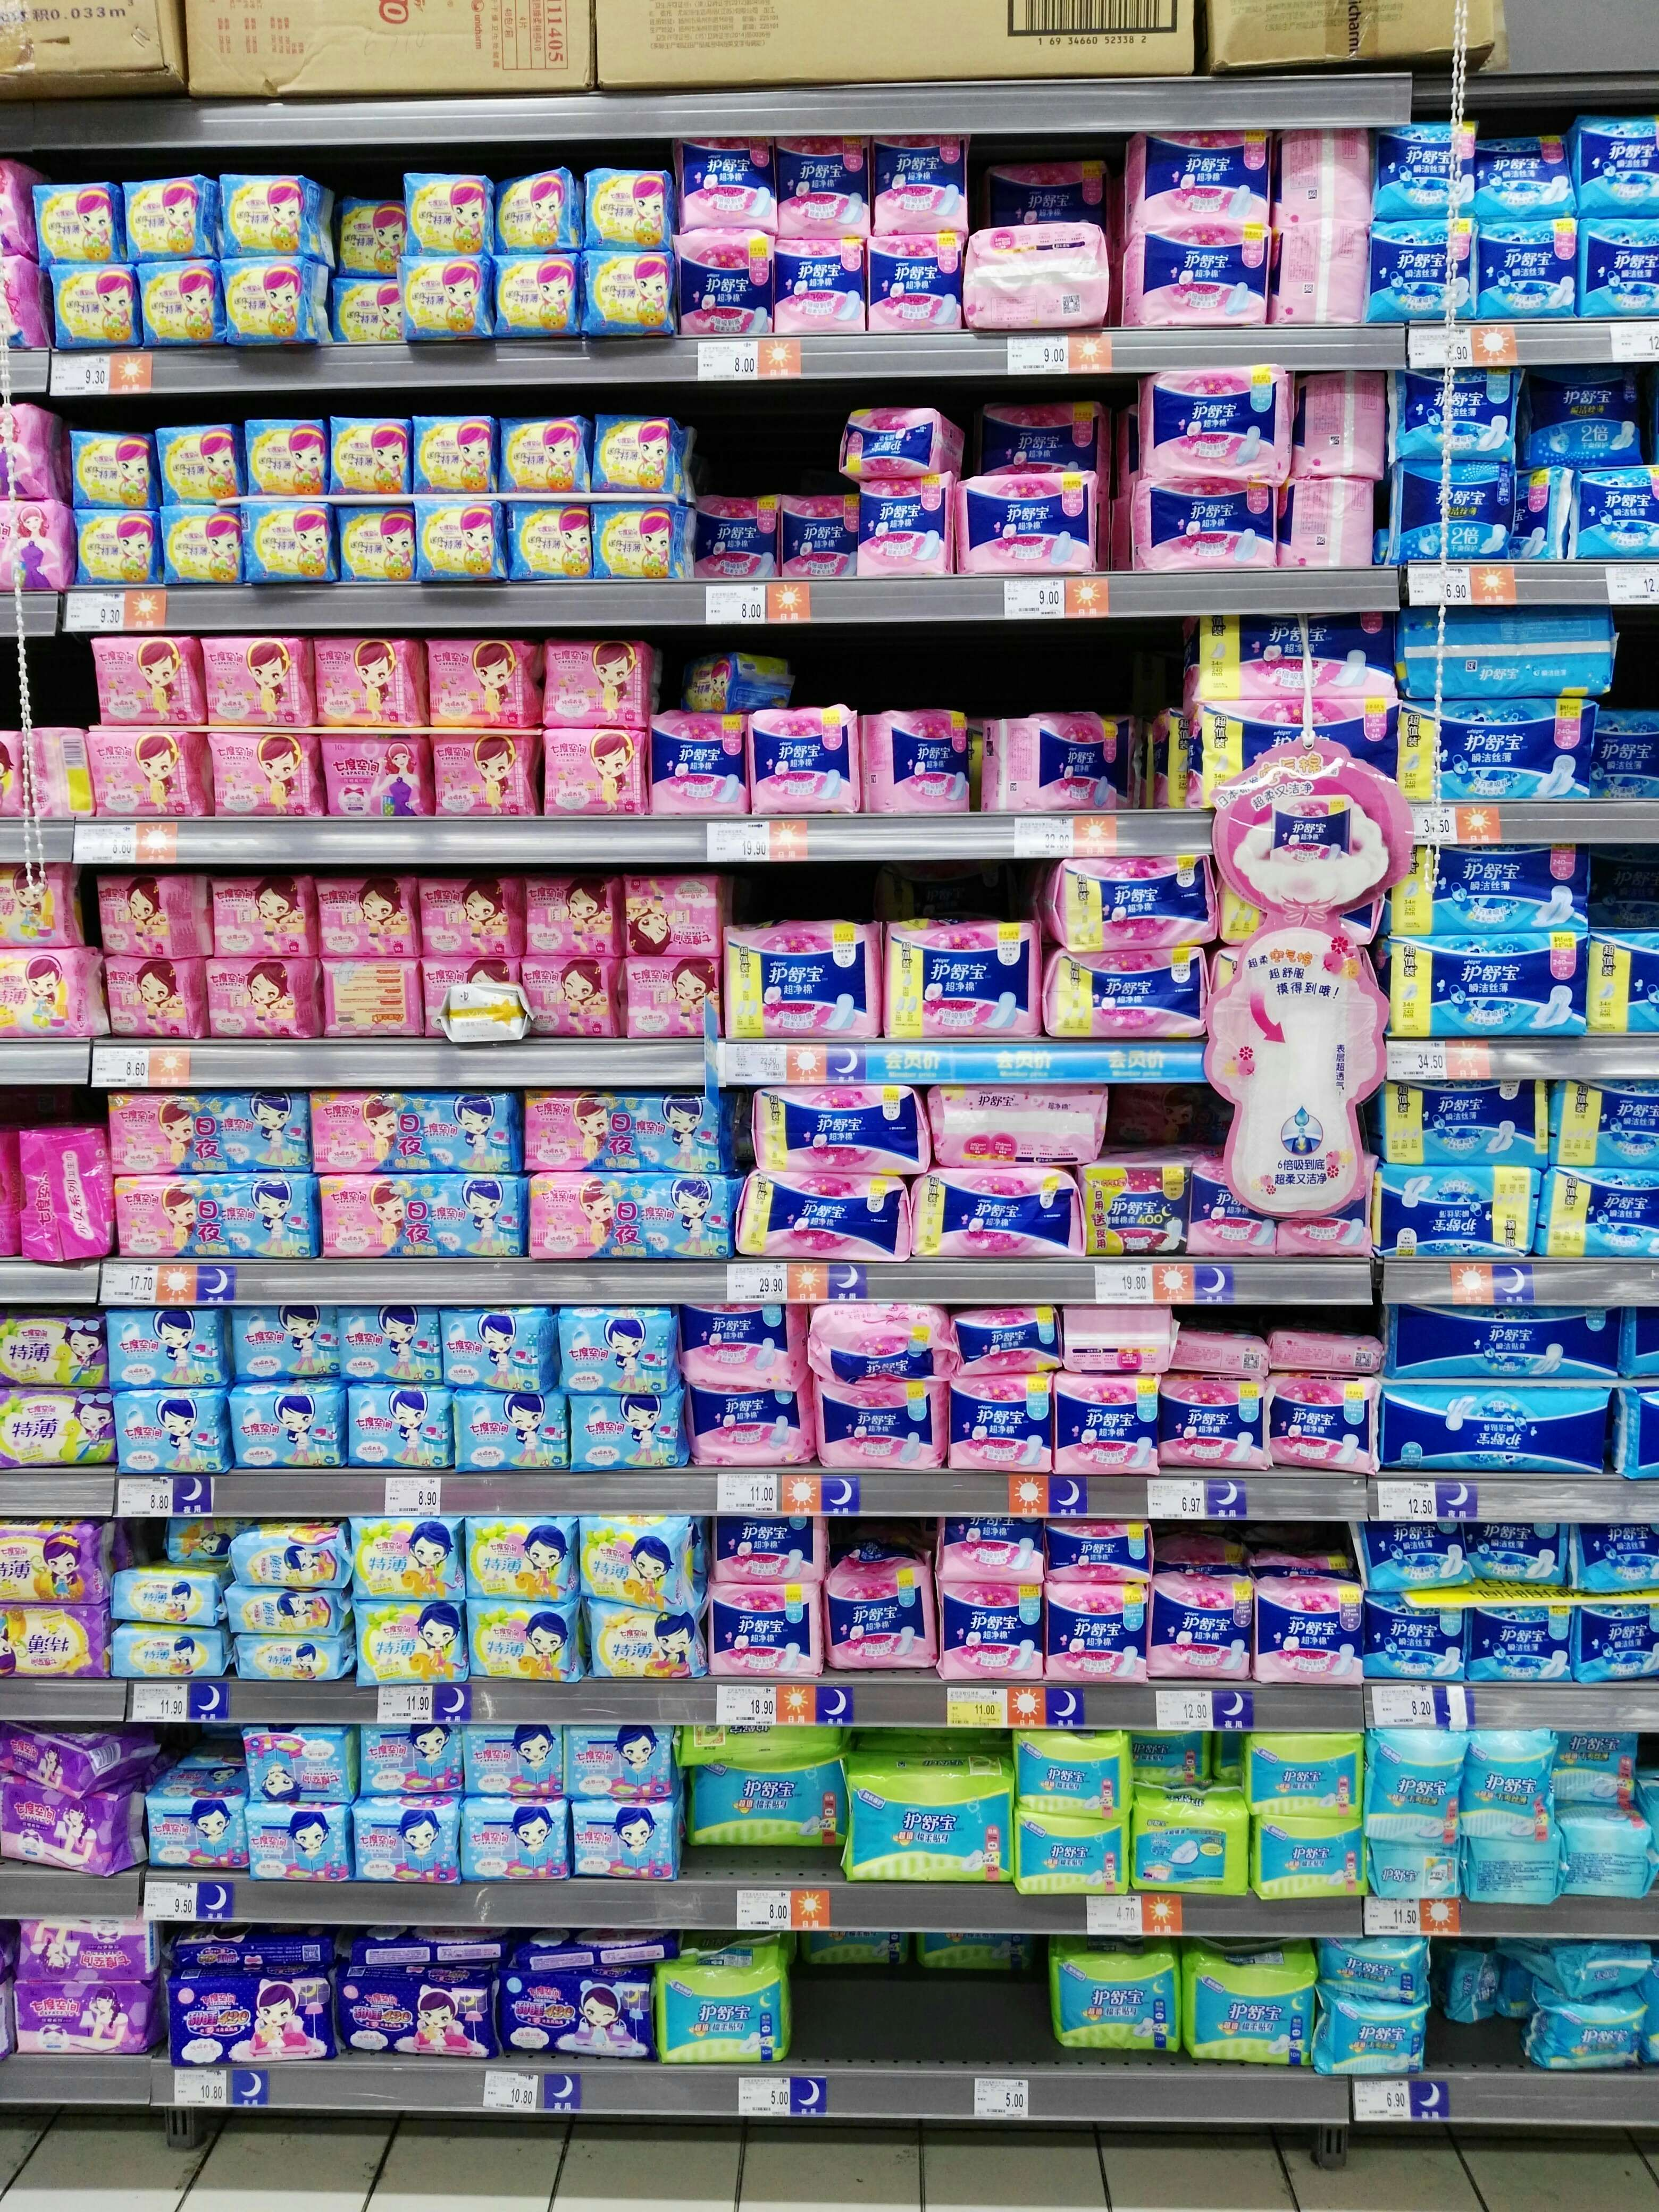Misplacement: (796, 1932, 1054, 2073)
